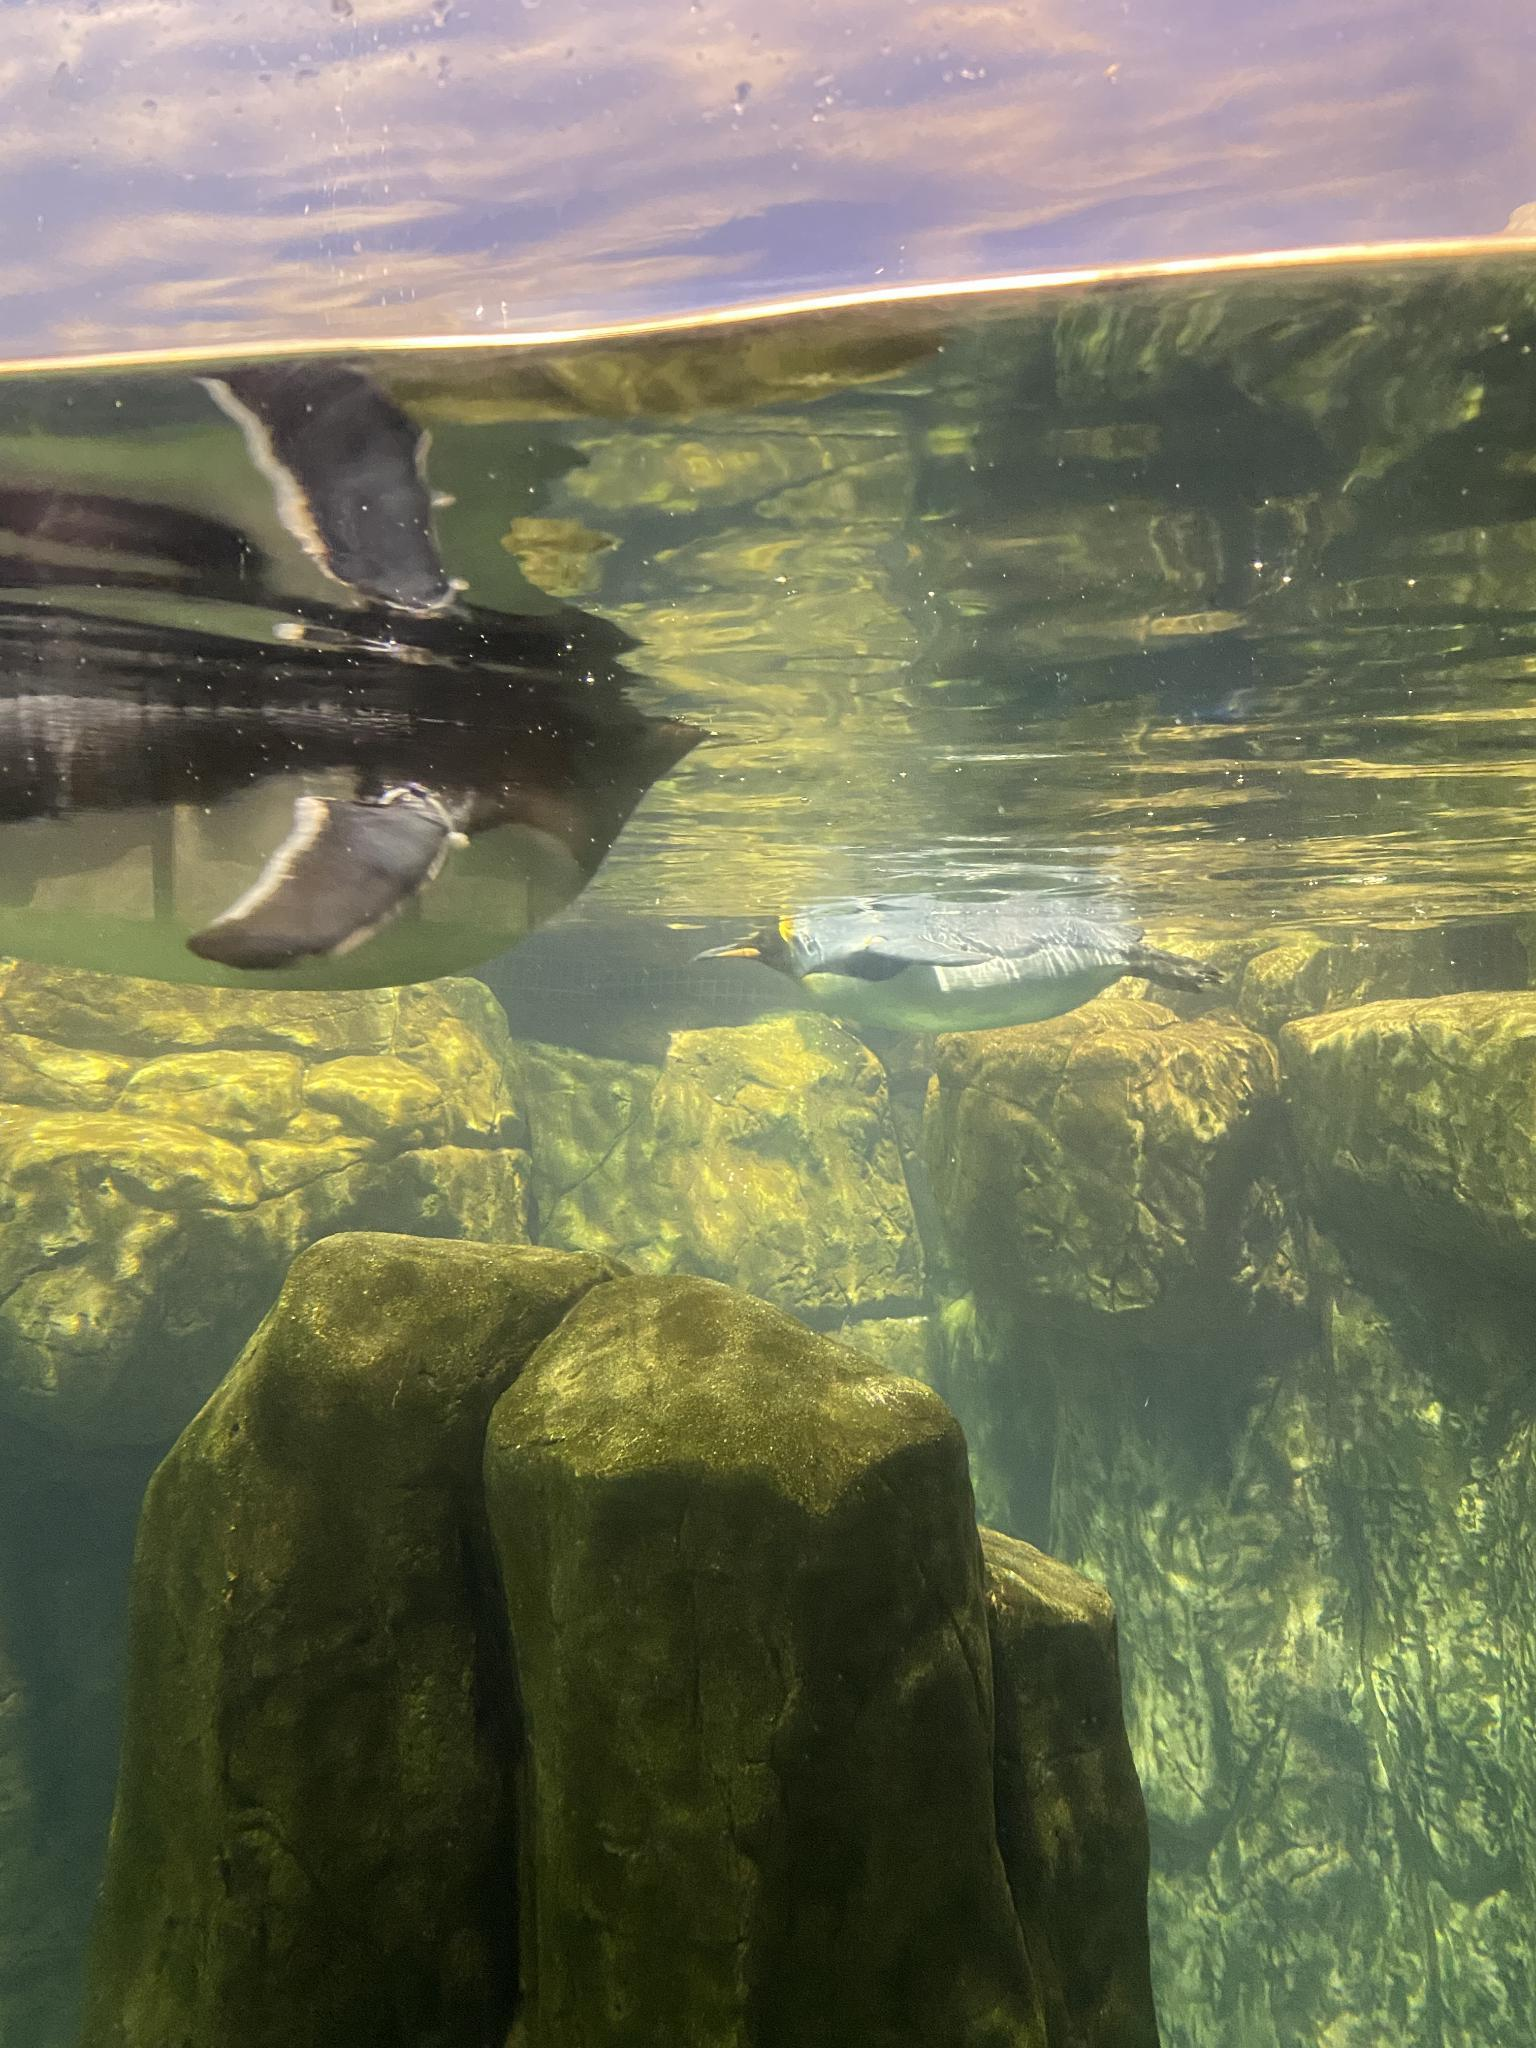penguin: (0, 584, 716, 992), (684, 910, 1225, 1032)
